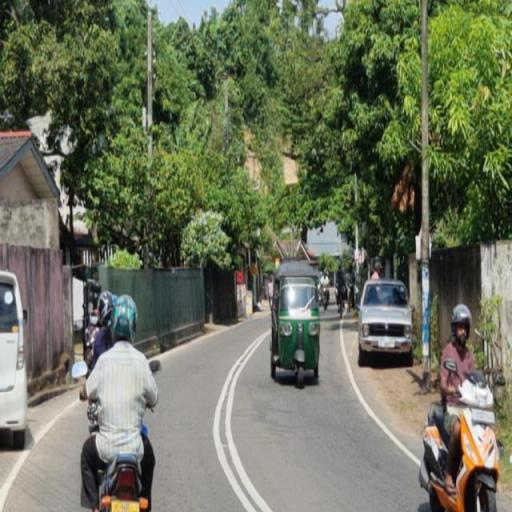double_white_line: (212, 325, 269, 512)
